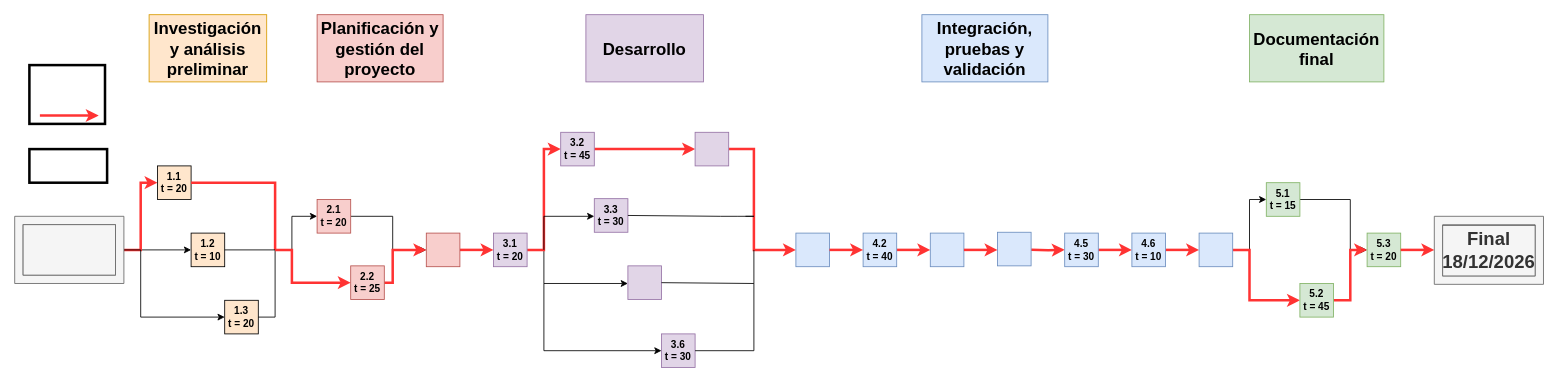
Some shapes in this 1558 by 382 pixel diagram are drawn without their labels. The box of each missing label's shape, as (x1, y1, x2, y2) in pixels:
2.3 t = 10: (425, 232, 460, 267)
3.4 t = 30: (627, 265, 662, 299)
3.5 t = 30: (694, 131, 729, 166)
4.1 t = 10: (795, 232, 830, 267)
4.3 t = 30: (929, 232, 964, 267)
4.4 t = 30: (997, 231, 1031, 266)
4.7 t = 40: (1198, 232, 1233, 267)
Camino crítico: (28, 63, 106, 125)
Inicio 2/03/2026: (22, 224, 116, 275)
t = horas: (28, 147, 108, 184)
